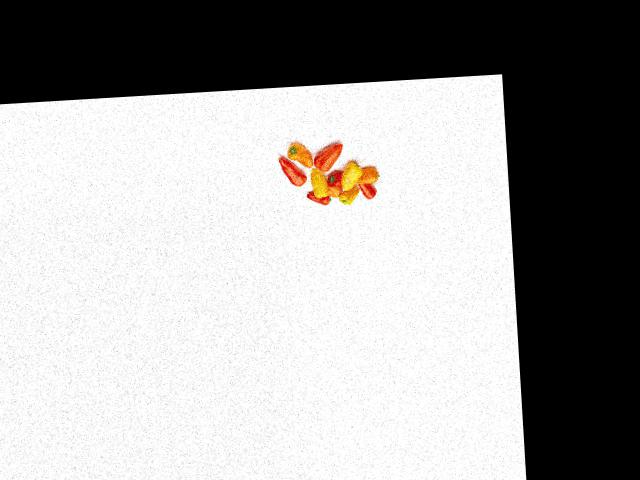bell_pepper: (303, 192, 332, 207)
